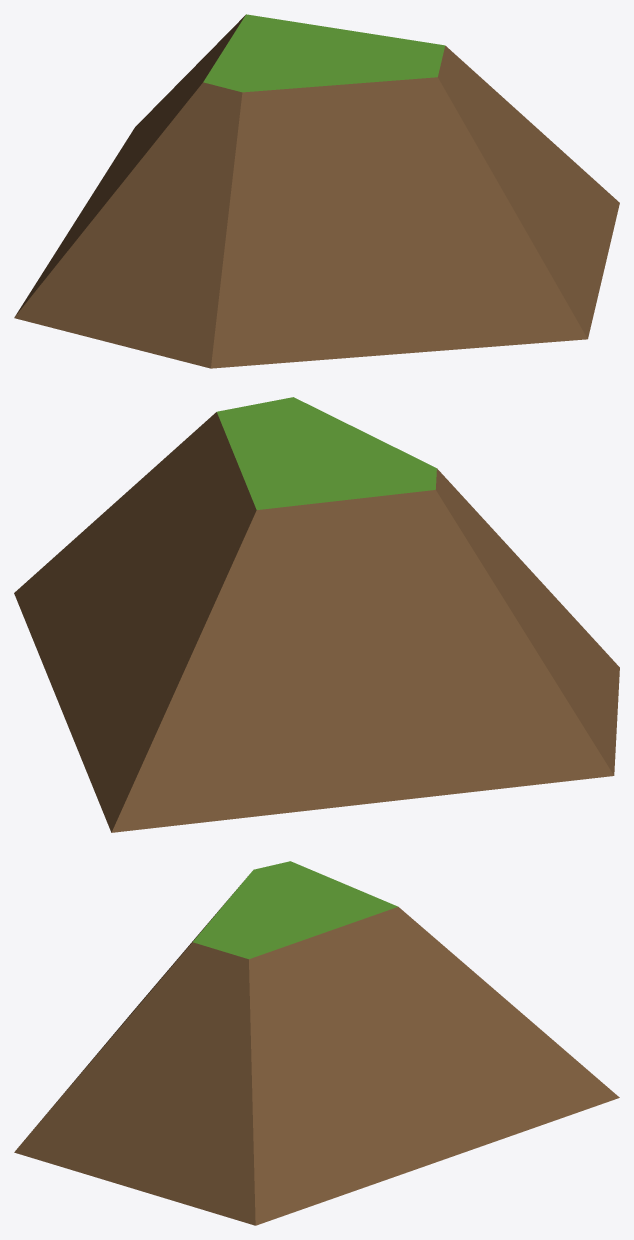
The model's file is rock2.glb.
The picture shows the model from 3 angles, top to bottom: view 1: azimuth 30°, elevation 25°; view 2: azimuth 150°, elevation 25°; view 3: azimuth 270°, elevation 25°; orthographic projection. The views are drawn at different scales.
Visible parts, largest first — view 1: rock_smallC; view 2: rock_smallC; view 3: rock_smallC.
Boxes of the visible parts, box(x1,y1,x2,y2) form: rock_smallC: box(14, 14, 619, 368); rock_smallC: box(14, 397, 619, 832); rock_smallC: box(14, 861, 619, 1225).
Size of the model in its own units: 1.47 by 0.5 by 1.47.
